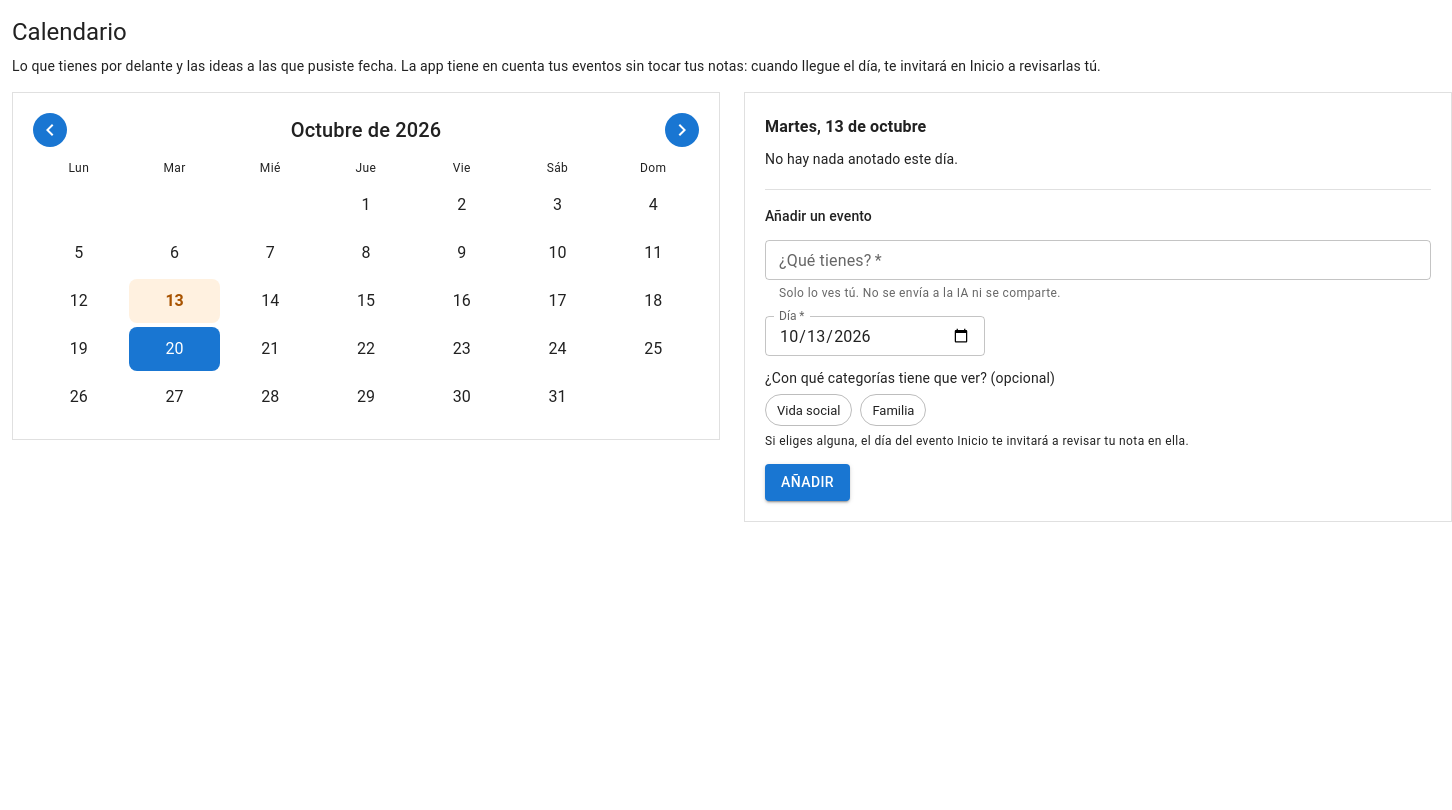
Test: CalendarPage (RF-48) › una idea guardada con fecha sale en su día, con su texto
Step 1. Click the button "20" → [175, 349], box x1=129 y1=327 x2=220 y2=371
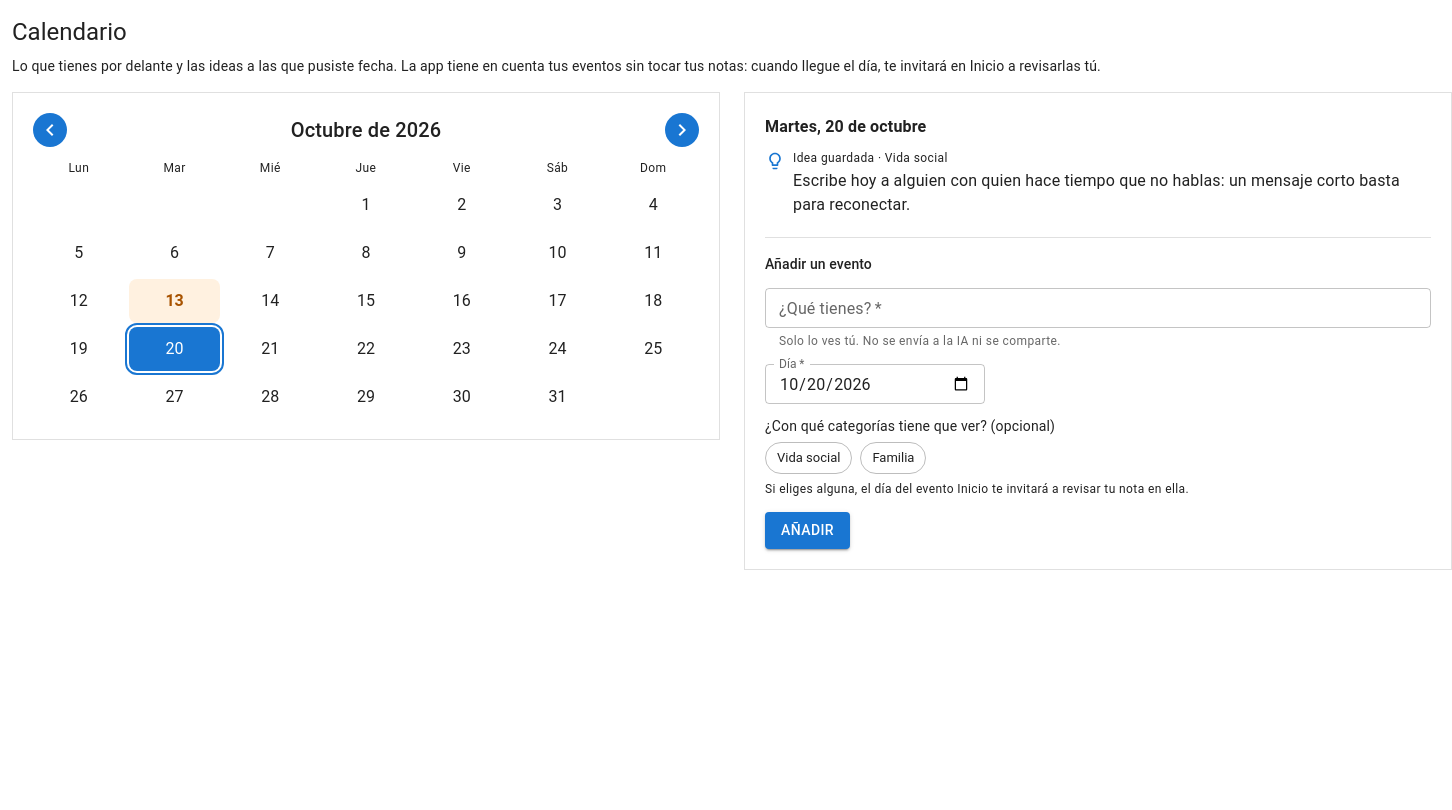
Expected: the list item does not show "vidaSocial.1", x1=765 y1=149 x2=1431 y2=217
Expected: the list item shows "Idea guardada", x1=793 y1=151 x2=874 y2=165
